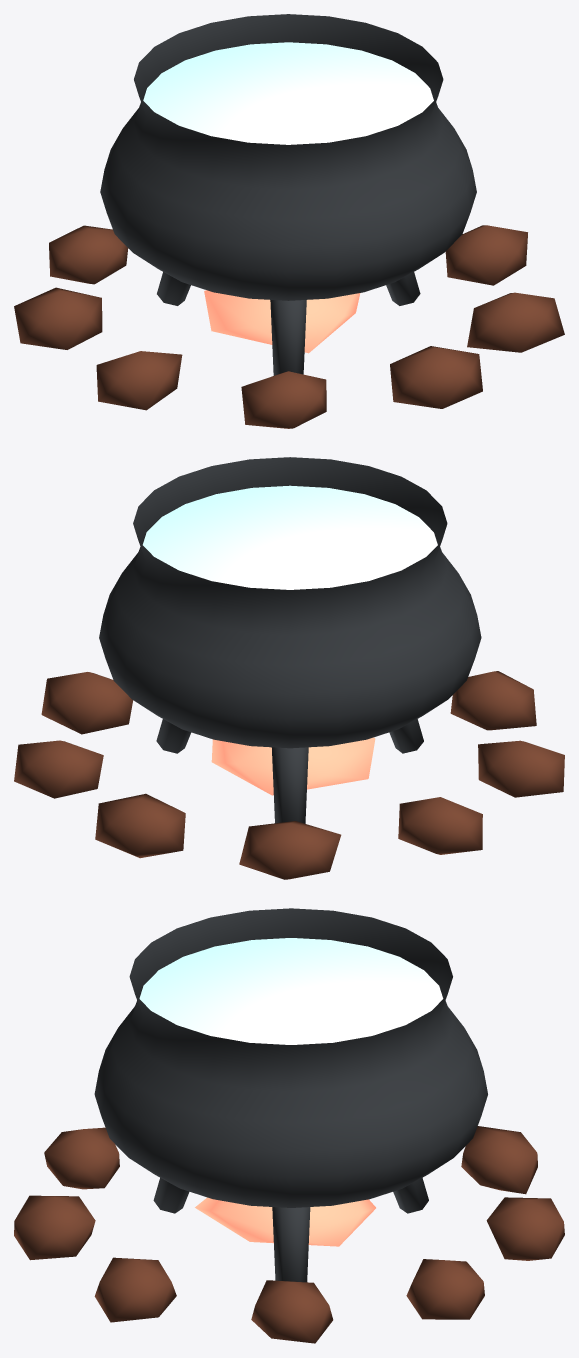
Rendered from wg_cauldron.fbx.
The picture shows the model from 3 angles, top to bottom: view 1: azimuth 30°, elevation 25°; view 2: azimuth 150°, elevation 25°; view 3: azimuth 270°, elevation 25°; orthographic projection. The views are drawn at different scales.
Visible parts, largest first — view 1: wg_cauldron; view 2: wg_cauldron; view 3: wg_cauldron.
Part boxes in pixels (box(x1,y1,x2,y2)): wg_cauldron: box(14, 14, 564, 428); wg_cauldron: box(14, 457, 564, 879); wg_cauldron: box(14, 908, 564, 1343).
Size of the model in its own units: 259 by 134 by 252.
